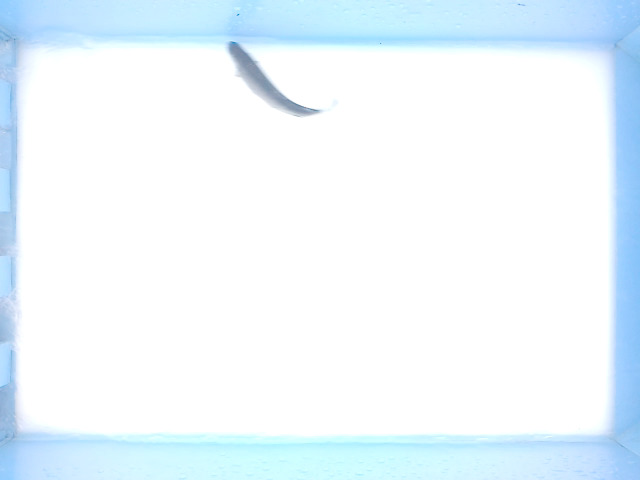fish: (222, 40, 341, 123)
